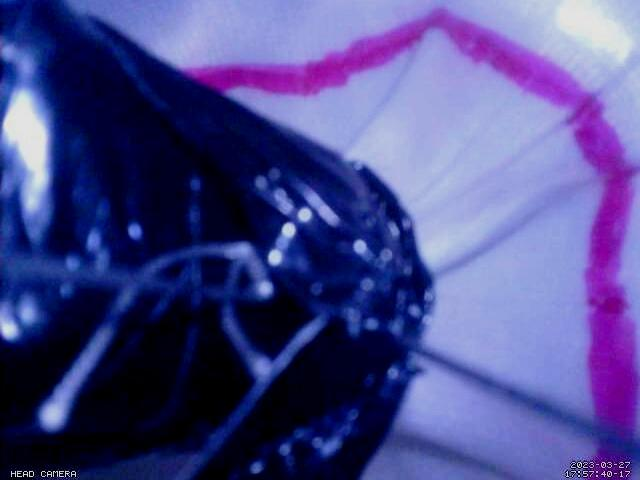red-circle: (183, 5, 640, 480)
